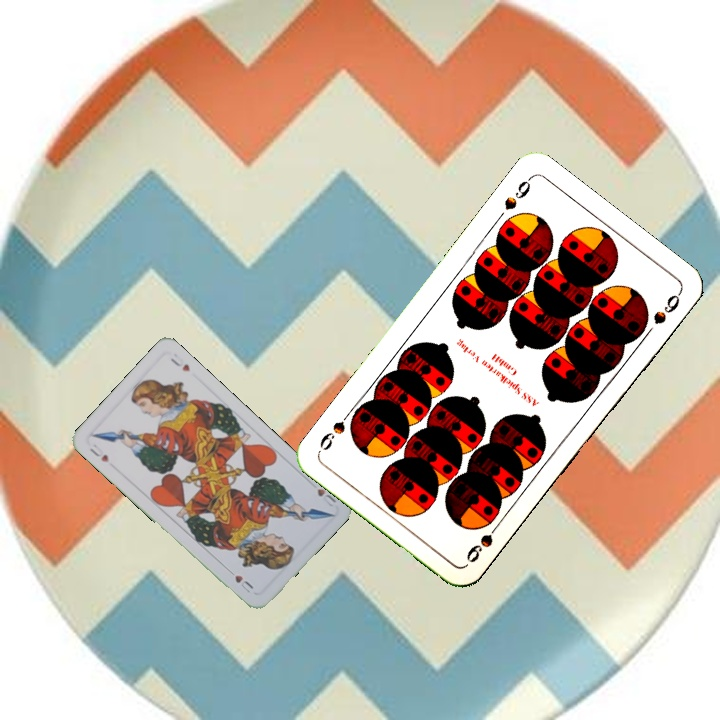HU: (86, 440, 112, 465), (313, 484, 339, 509)
S9: (462, 516, 505, 566), (500, 173, 534, 213)
